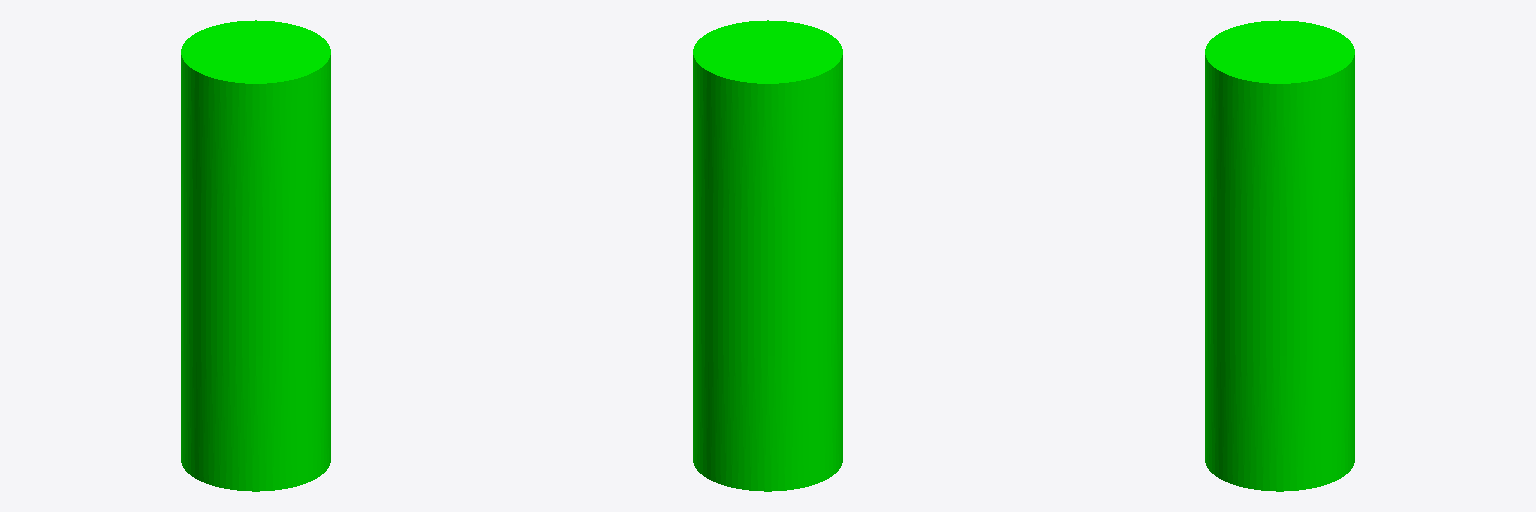
URDF robot description (Cylinder_v6_20_60):
<robot name="Cylinder_v6_20_60">
	<link name="object">
		<visual>
			<origin xyz="-2.874840115150977e-10 2.5763094695880716e-18 -0.6" rpy="0.0 0.0 0.0" />
			<geometry>
				<mesh filename="Cylinder_v6_20_60/Cylinder_v6_20_60.obj" scale="0.02 0.02 0.02" />
			</geometry>
			<material name="texture">
				<color rgba="0.0 1.0 0.0 1.0" />
			</material>
		</visual>
		<collision>
			<origin xyz="-2.874840115150977e-10 2.5763094695880716e-18 -0.6" rpy="0.0 0.0 0.0" />
			<geometry>
				<mesh filename="Cylinder_v6_20_60/Cylinder_v6_20_60_vhacd.obj" scale="0.02 0.02 0.02" />
			</geometry>
		</collision>
		<inertial>
			<mass value="0.020" />
			<inertia ixx="1.0" ixy="0.0" ixz="0.0" iyy="1.0" iyz="0.0" izz="1.0" />
		</inertial>
	</link>
</robot>

--- What the picture shows (computed from the rendered views, not written in the file) ---
The picture shows the robot from 3 angles, left to right: view 1: azimuth 30°, elevation 25°; view 2: azimuth 150°, elevation 25°; view 3: azimuth 270°, elevation 25°; orthographic projection.
Model Cylinder_v6_20_60 with 1 links and 0 joints (none), rooted at object, posed every joint at zero.
Visible links, largest first — view 1: object; view 2: object; view 3: object.
Boxes of the visible links, x1,y1,x2,y2 form: object: (181, 20, 330, 491); object: (693, 20, 842, 491); object: (1205, 20, 1354, 491).
Size in the robot's own frame: 0.4 by 0.3999 by 1.2 metres.
Meshes: 1 distinct files referenced, 1 mesh visuals loaded (1 OBJ).